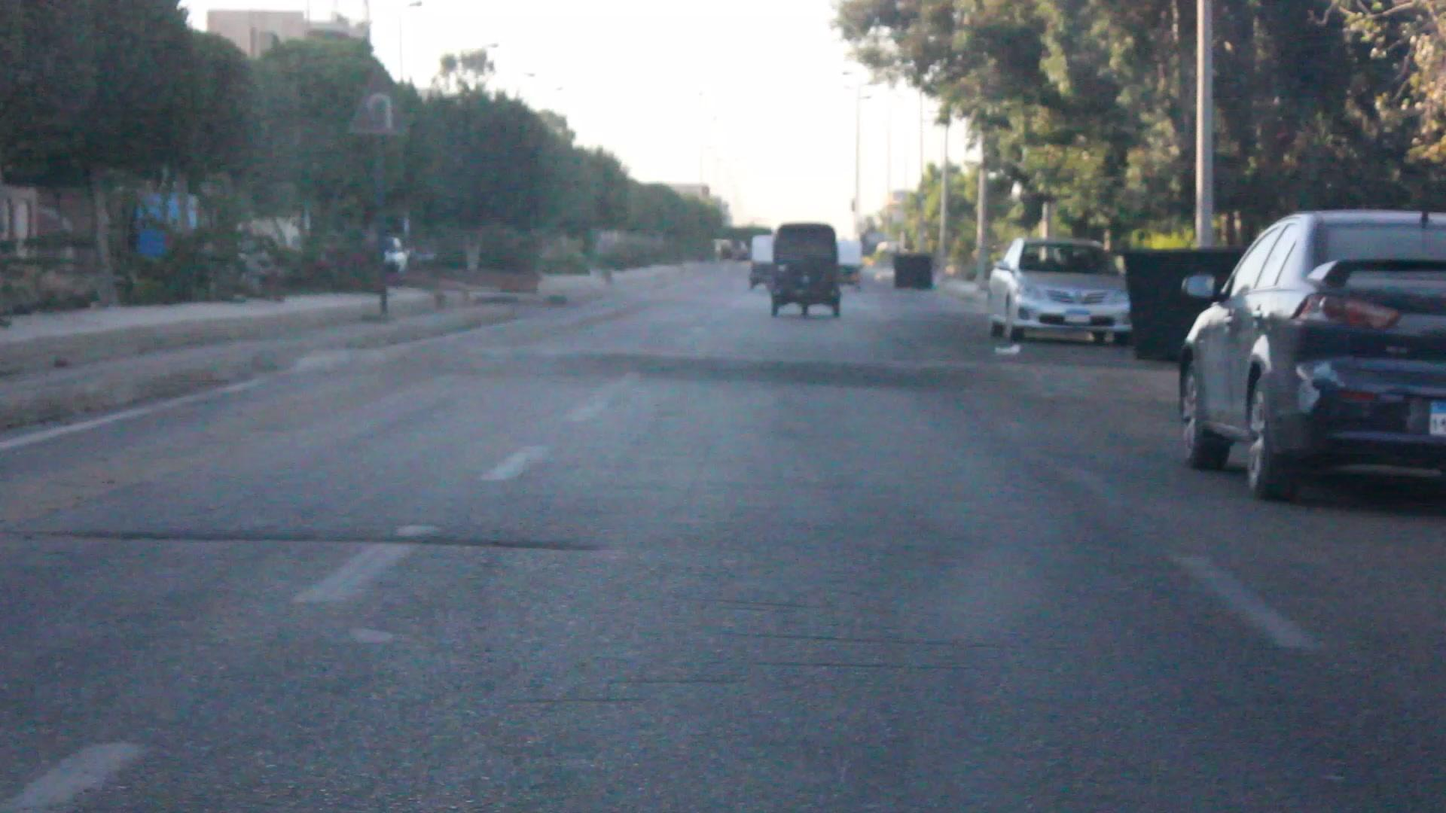Bump: (285, 348, 1183, 402)
